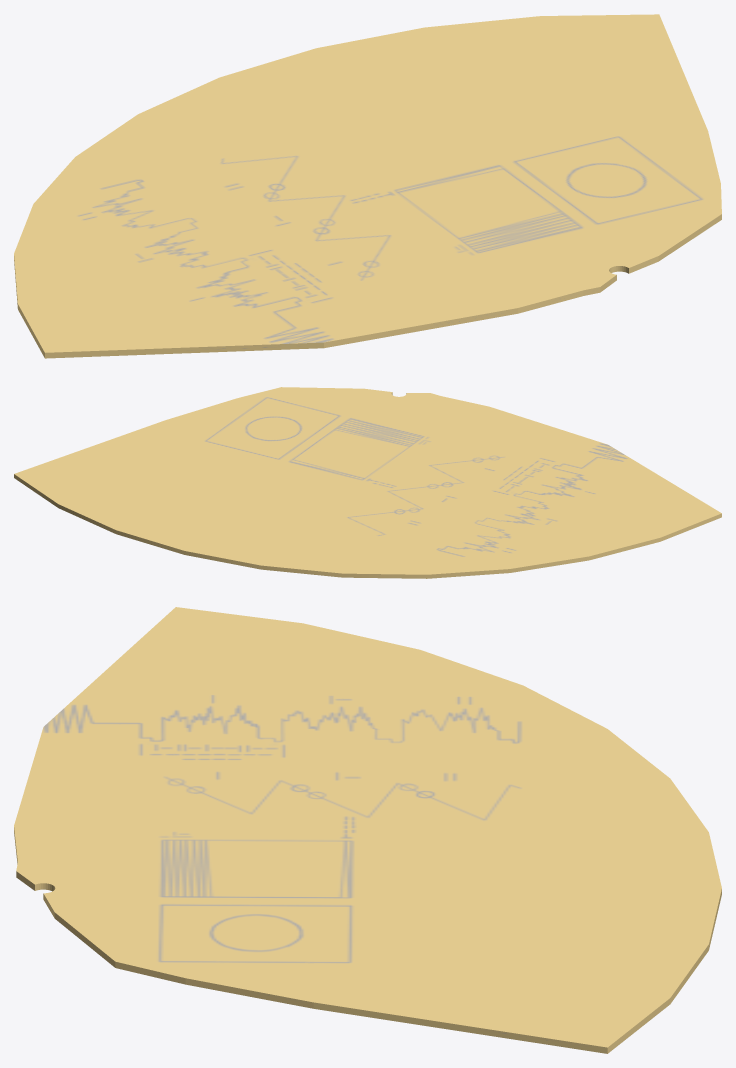
Rendered from RecordPiece3.fbx.
3 views of the same model, one above another, from view 1: azimuth 30°, elevation 25°; view 2: azimuth 150°, elevation 25°; view 3: azimuth 270°, elevation 25° (orthographic). The views are drawn at different scales.
Parts seen in each view (by area): view 1: RecordPiece3; view 2: RecordPiece3; view 3: RecordPiece3.
Part boxes in pixels (x1=…): RecordPiece3: x1=14, y1=14, x2=721, y2=358; RecordPiece3: x1=14, y1=387, x2=721, y2=578; RecordPiece3: x1=14, y1=607, x2=721, y2=1053.
Bounding box in the file's own units: 44.32 × 0.3 × 30.1.
1 material, 1 textured.
